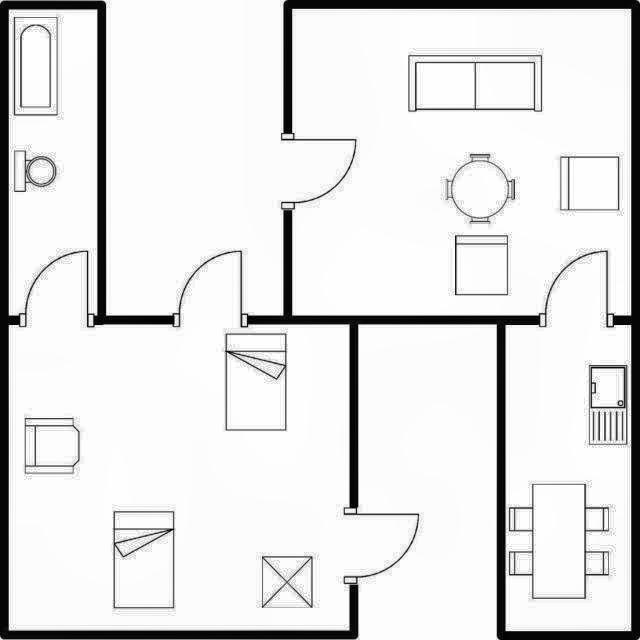room: (292, 9, 631, 316), (9, 325, 349, 631), (506, 326, 631, 631), (9, 9, 97, 316)
